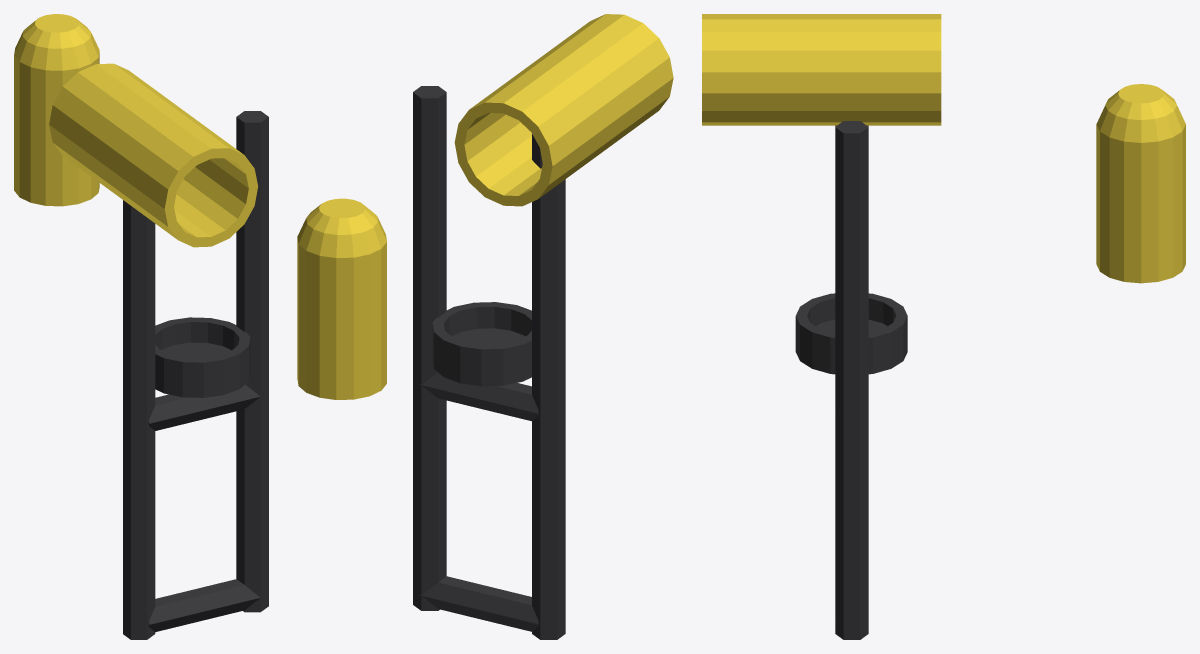
Rendered from Cannon.fbx.
3 renders of one model, left to right at view 1: azimuth 30°, elevation 25°; view 2: azimuth 150°, elevation 25°; view 3: azimuth 270°, elevation 25°, orthographic. The views are drawn at different scales.
Parts seen in each view (by area): view 1: 炮管, 母线支架A, 母线支架B, 弹, 炮管底座, 手持支架, 底座支架; view 2: 炮管, 弹, 母线支架B, 母线支架A, 炮管底座, 手持支架, 底座支架; view 3: 炮管, 母线支架B, 弹, 炮管底座.
Part boxes in pixels (x1,y1,x2,y2): 炮管: [49, 63, 258, 247]; 母线支架A: [123, 200, 155, 639]; 母线支架B: [236, 111, 268, 612]; 弹: [14, 14, 99, 206]; 炮管底座: [155, 317, 250, 397]; 手持支架: [148, 579, 261, 632]; 底座支架: [148, 384, 261, 430]; 炮管: [454, 14, 673, 206]; 弹: [297, 198, 386, 399]; 母线支架B: [413, 86, 446, 610]; 母线支架A: [532, 134, 565, 639]; 炮管底座: [432, 302, 531, 386]; 手持支架: [420, 576, 538, 631]; 底座支架: [420, 372, 538, 421]; 炮管: [702, 14, 941, 125]; 母线支架B: [835, 121, 868, 639]; 弹: [1096, 84, 1185, 283]; 炮管底座: [795, 293, 907, 374].
Bounding box in the file's own units: 18.45 × 54.98 × 43.27.
